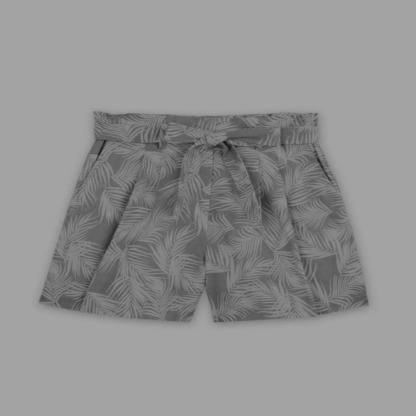jacket: (33, 108, 373, 324)
